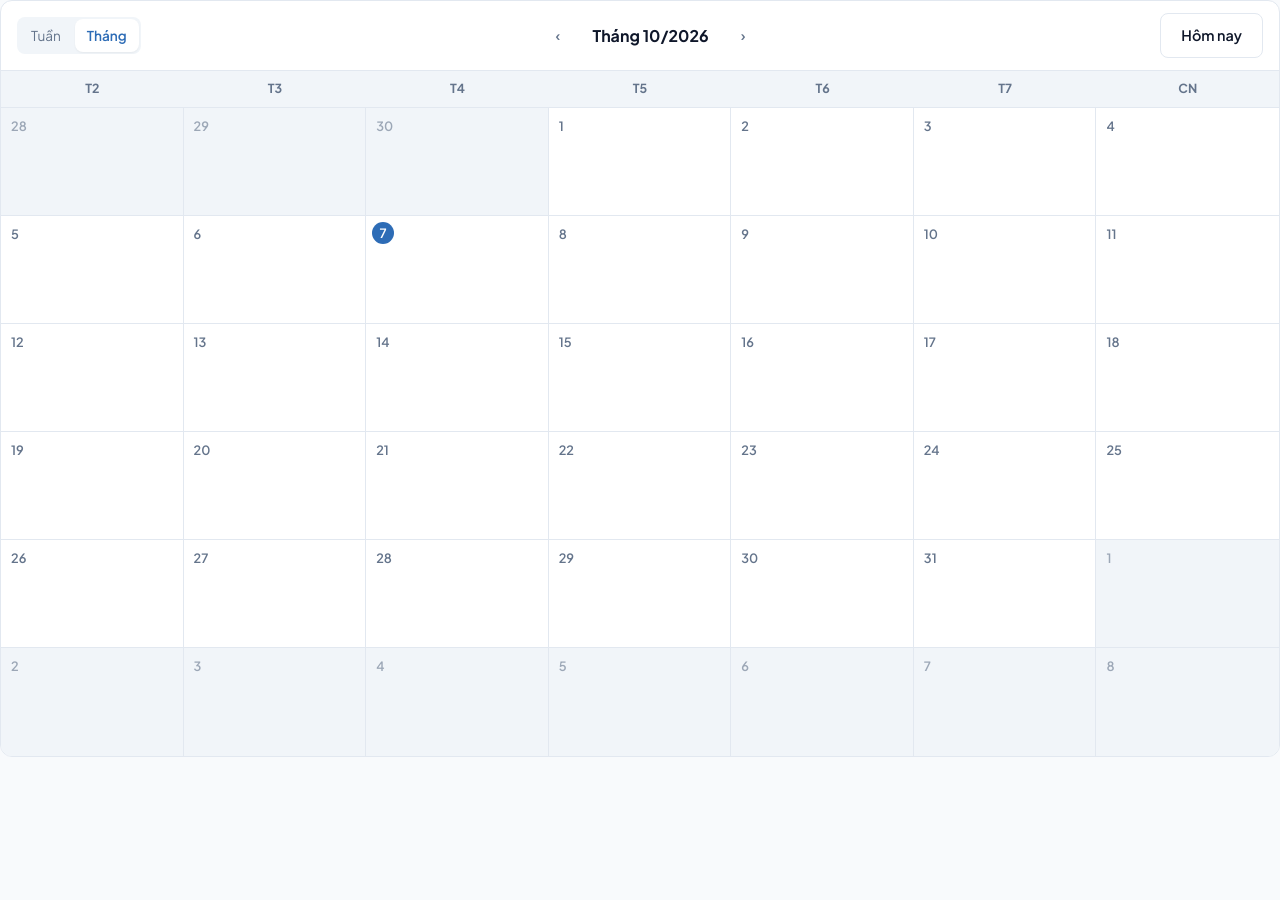
PostCalendar week/month — AC calendar-views-ui-test (b) › (b) Tuần: headers Thứ 2…Chủ Nhật, hôm nay tô, ‹ › nhảy 7 ngày
The image size is (1280, 900).
Click the tab "Tuần": (46, 36) x1=19 y1=19 x2=73 y2=52
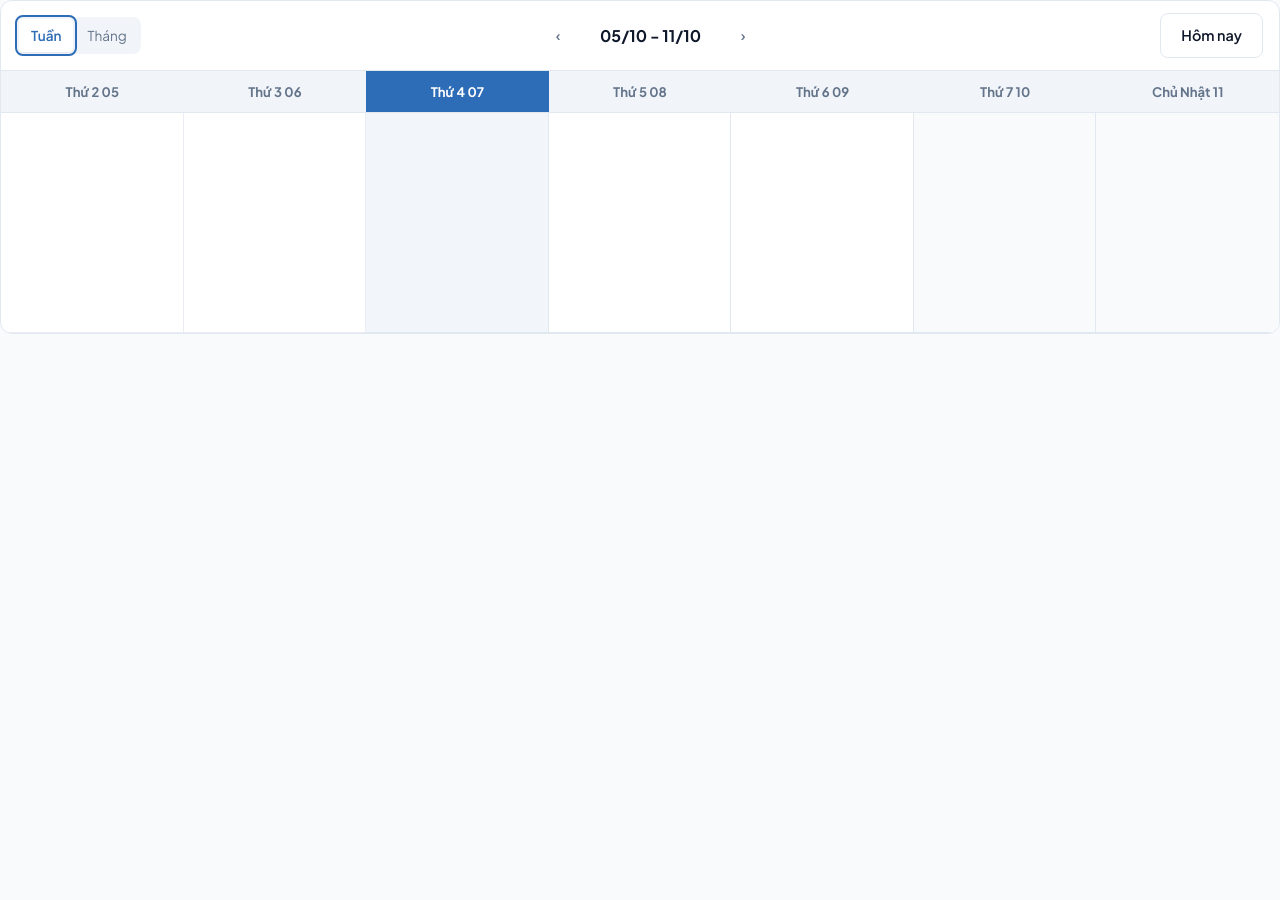
Expected: the element with test id "week-view" is shown, x1=1 y1=71 x2=1279 y2=333
Expected: the text with test id "week-range-label" reads "05/10 - 11/10", x1=600 y1=25 x2=701 y2=46
Expected: the text "Thứ 2 05" is shown, x1=1 y1=71 x2=184 y2=113
Click the button named "Tuần sau": (743, 36) x1=720 y1=13 x2=767 y2=58
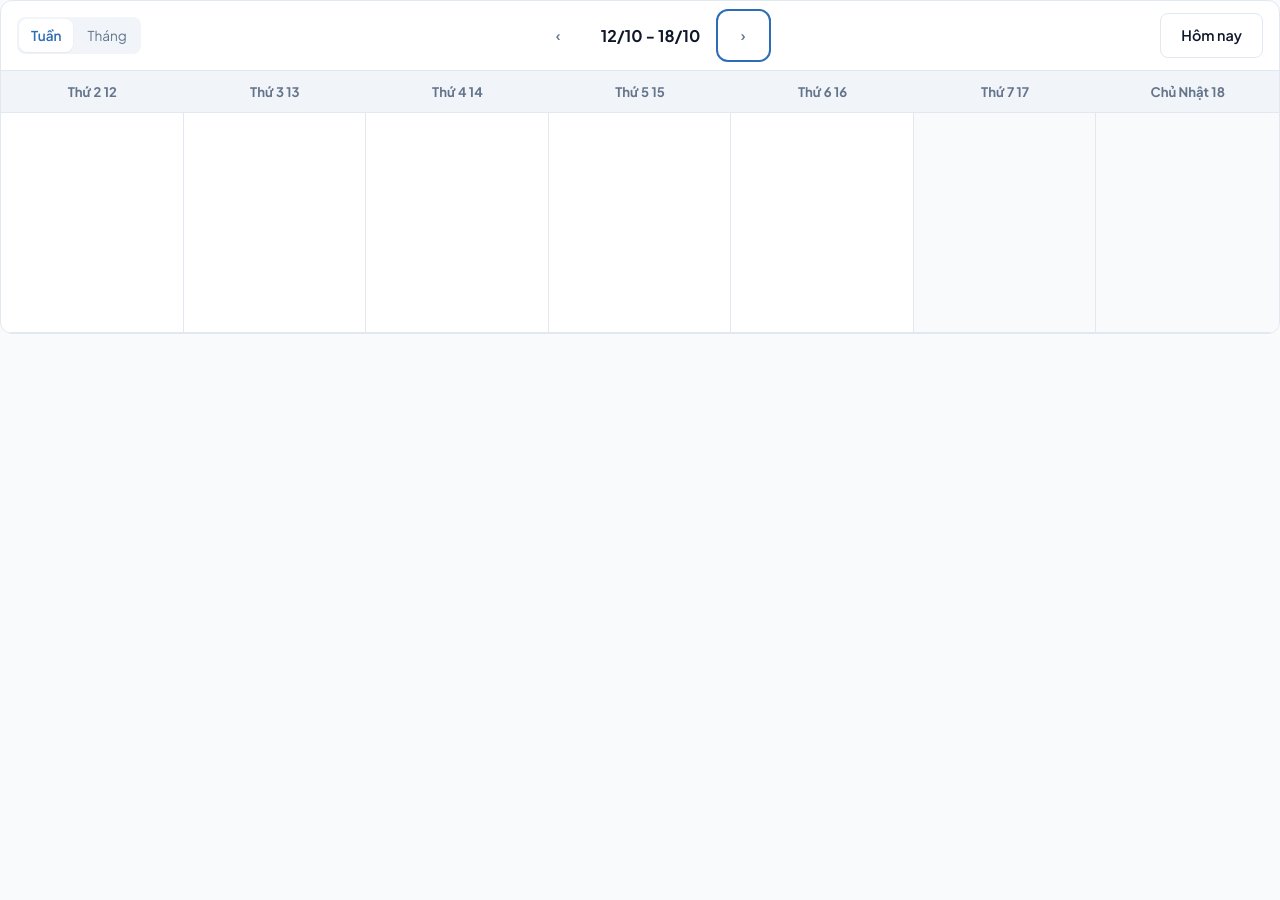
Expected: the text with test id "week-range-label" reads "12/10 - 18/10", x1=601 y1=25 x2=700 y2=46
Expected: the text "Thứ 2 12" is shown, x1=1 y1=71 x2=184 y2=113
Click the button named "Tuần trước": (558, 36) x1=534 y1=13 x2=582 y2=58
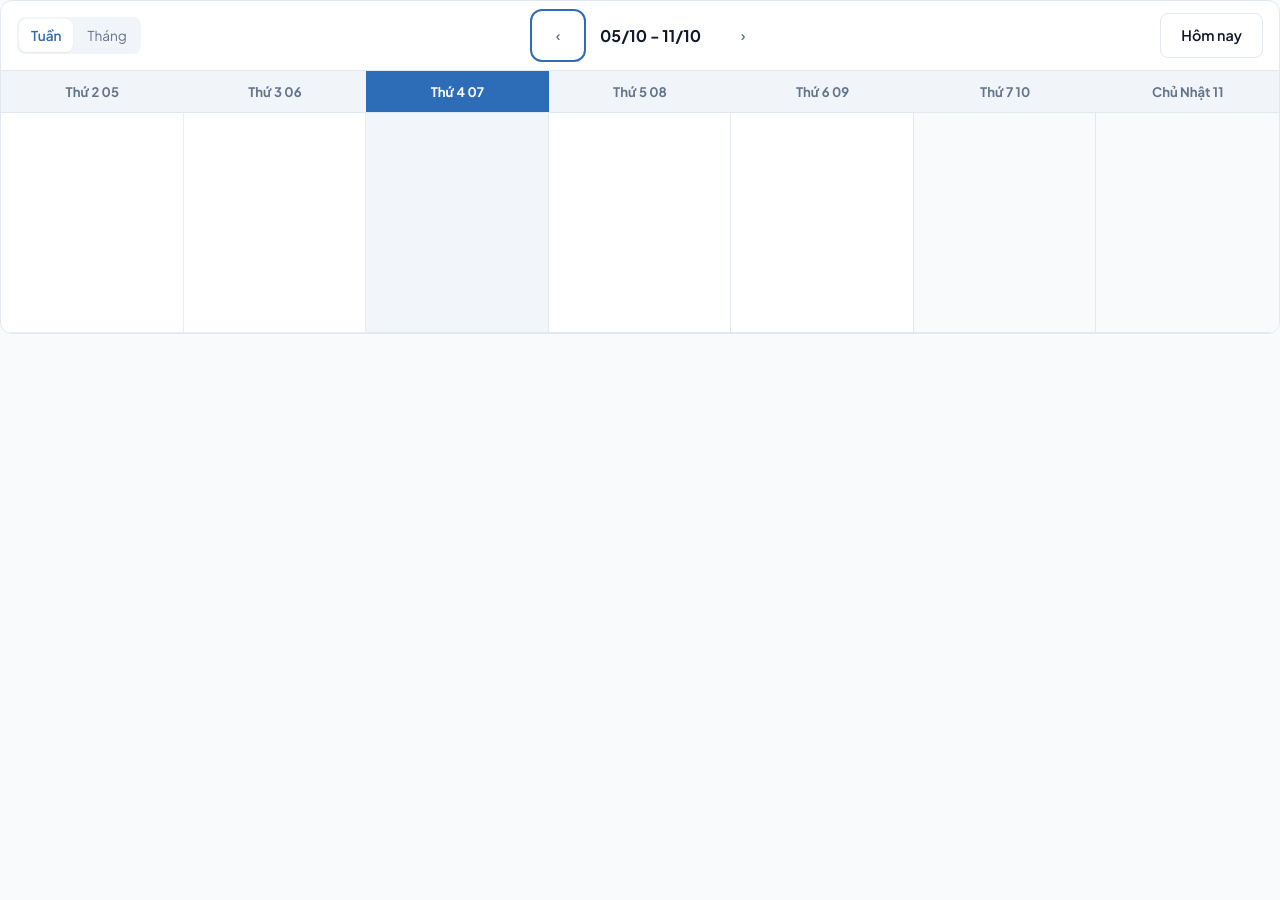
Expected: the text with test id "week-range-label" reads "05/10 - 11/10", x1=600 y1=25 x2=701 y2=46
